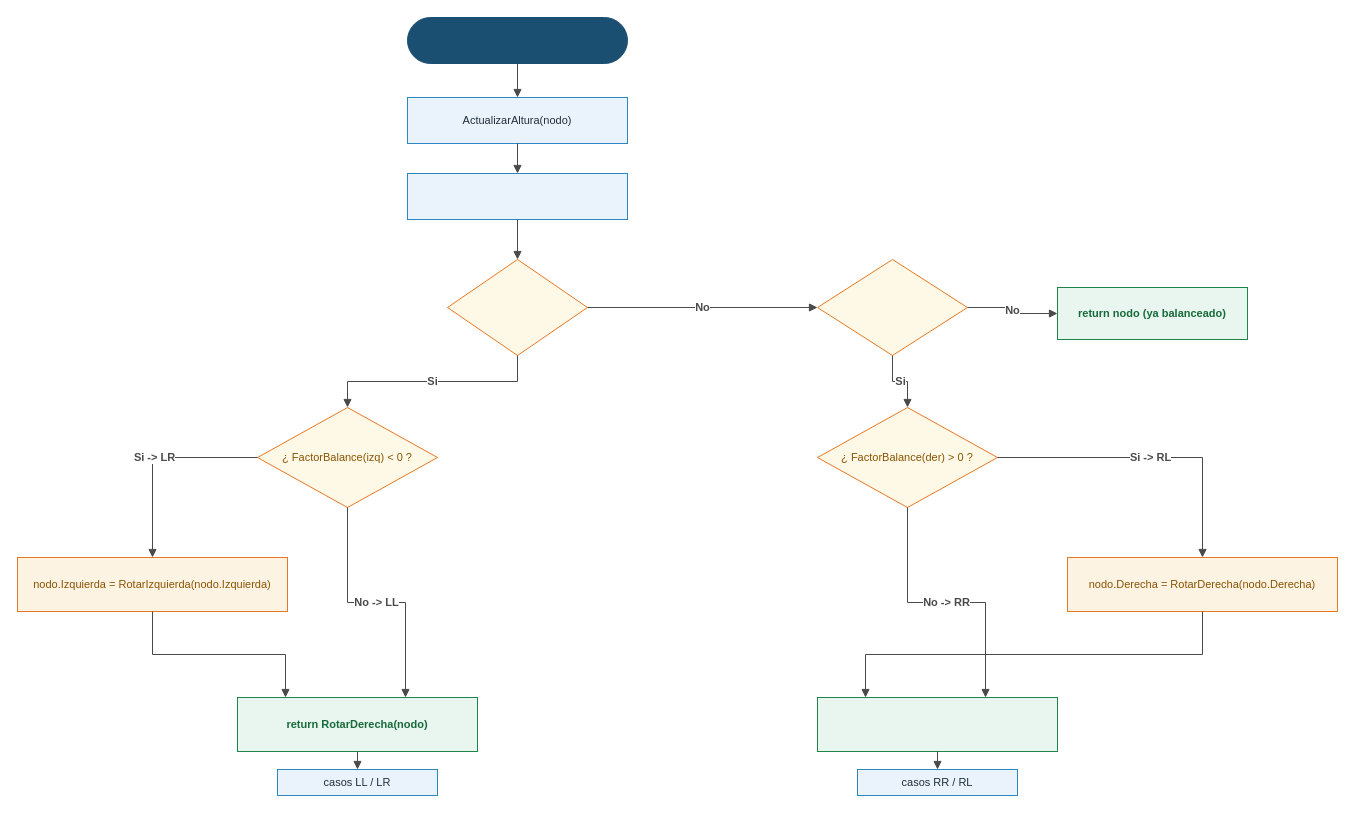
The diagram is 1355 pixels wide and 813 high, and some of its shapes have lost their labels. The centre of each missing label's shape, as x and y in pixels:
"Balancear(nodo)" belongs at pixel 517 40.
"fb = FactorBalance(nodo)" belongs at pixel 517 196.
"return RotarIzquierda(nodo)" belongs at pixel 937 724.
"¿ fb < -1 ? (pesa a la derecha)" belongs at pixel 892 307.
"¿ fb > 1 ? (pesa a la izquierda)" belongs at pixel 517 307.
